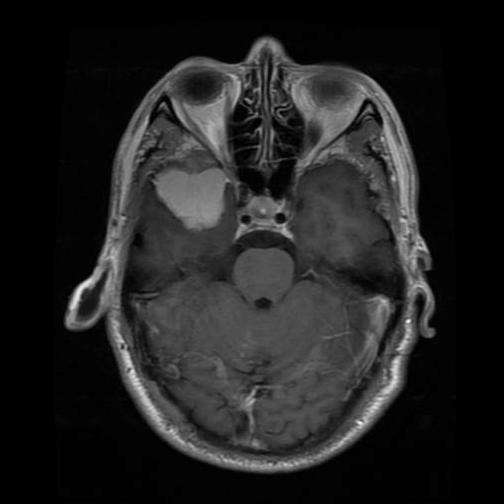Tumour-Meningioma: (144, 162, 231, 239)
